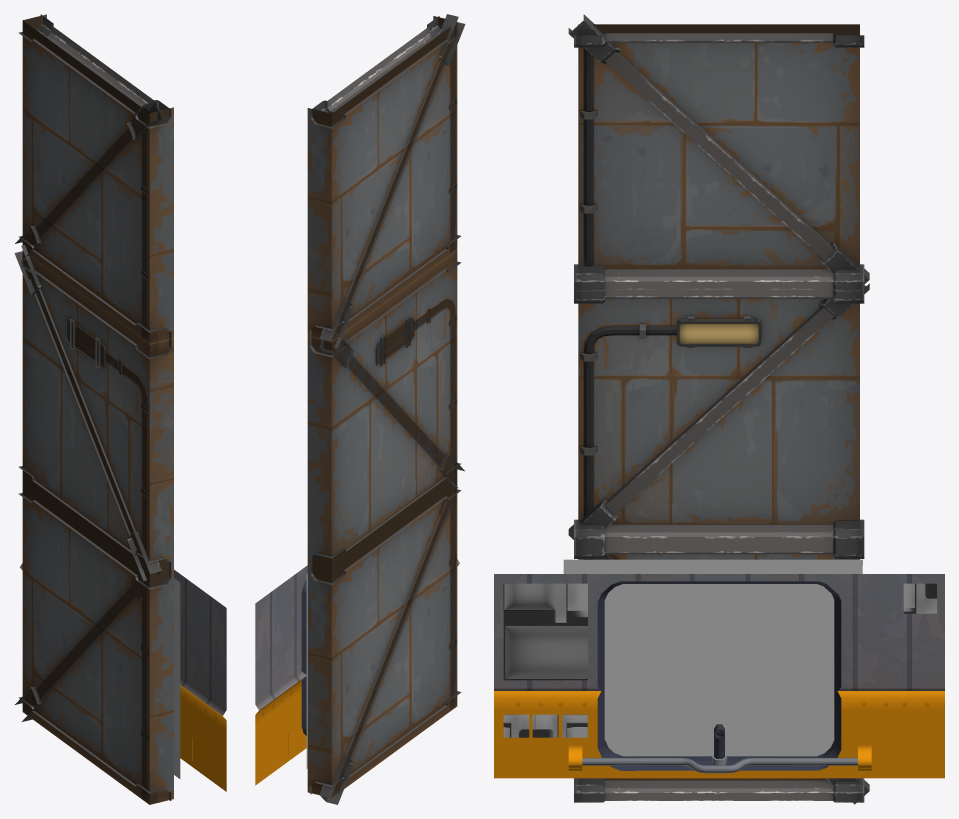
Rendered from obj_building_elevatorwallleft.fbx.
The picture shows the model from 3 angles, left to right: view 1: azimuth 30°, elevation 25°; view 2: azimuth 150°, elevation 25°; view 3: azimuth 270°, elevation 25°; orthographic projection. The views are drawn at different scales.
Parts seen in each view (by area): view 1: obj_building_elevatorwallleft; view 2: obj_building_elevatorwallleft; view 3: obj_building_elevatorwallleft.
Part boxes in pixels (box(x1,y1,x2,y2)): obj_building_elevatorwallleft: box(14, 14, 226, 804); obj_building_elevatorwallleft: box(255, 14, 465, 804); obj_building_elevatorwallleft: box(494, 14, 944, 804).
Bounding box in the file's own units: 4.52 × 46.07 × 24.
